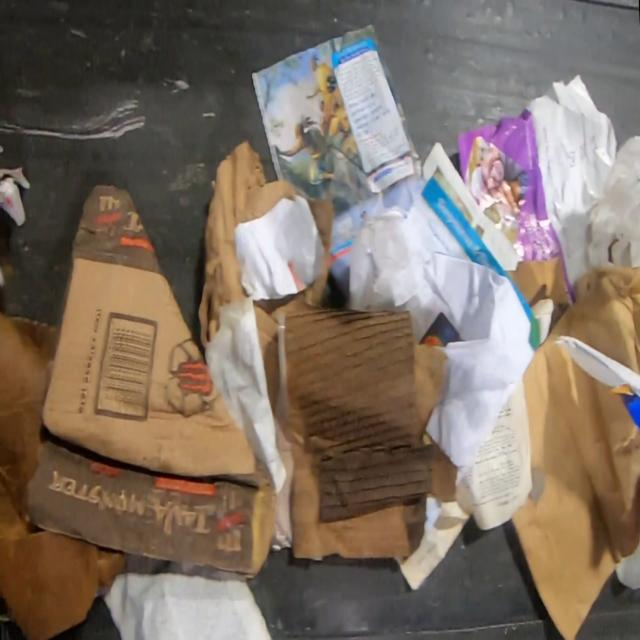cardboard: (28, 185, 273, 578), (271, 308, 459, 560), (0, 312, 130, 640), (510, 330, 640, 640), (196, 137, 335, 423), (550, 265, 640, 375), (506, 258, 569, 330)
soft_plastic: (347, 205, 442, 345)
